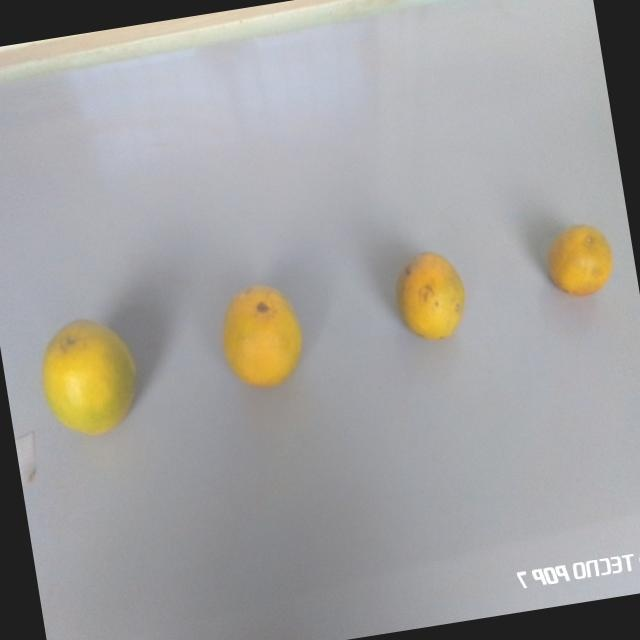agrume: (31, 305, 153, 447), (215, 274, 310, 392), (390, 243, 474, 354), (538, 210, 625, 307)
